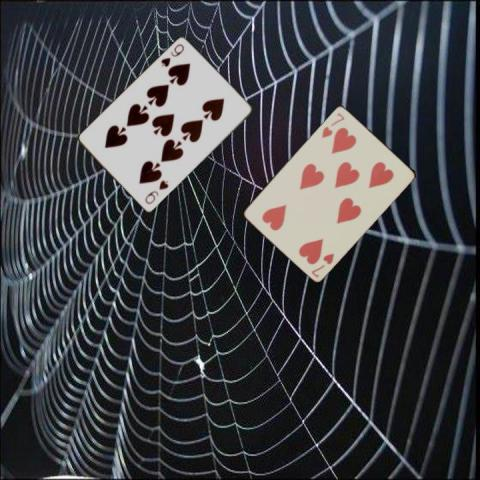7h: (319, 110, 346, 140), (308, 250, 335, 279)
9s: (142, 177, 170, 206), (158, 41, 185, 69)
